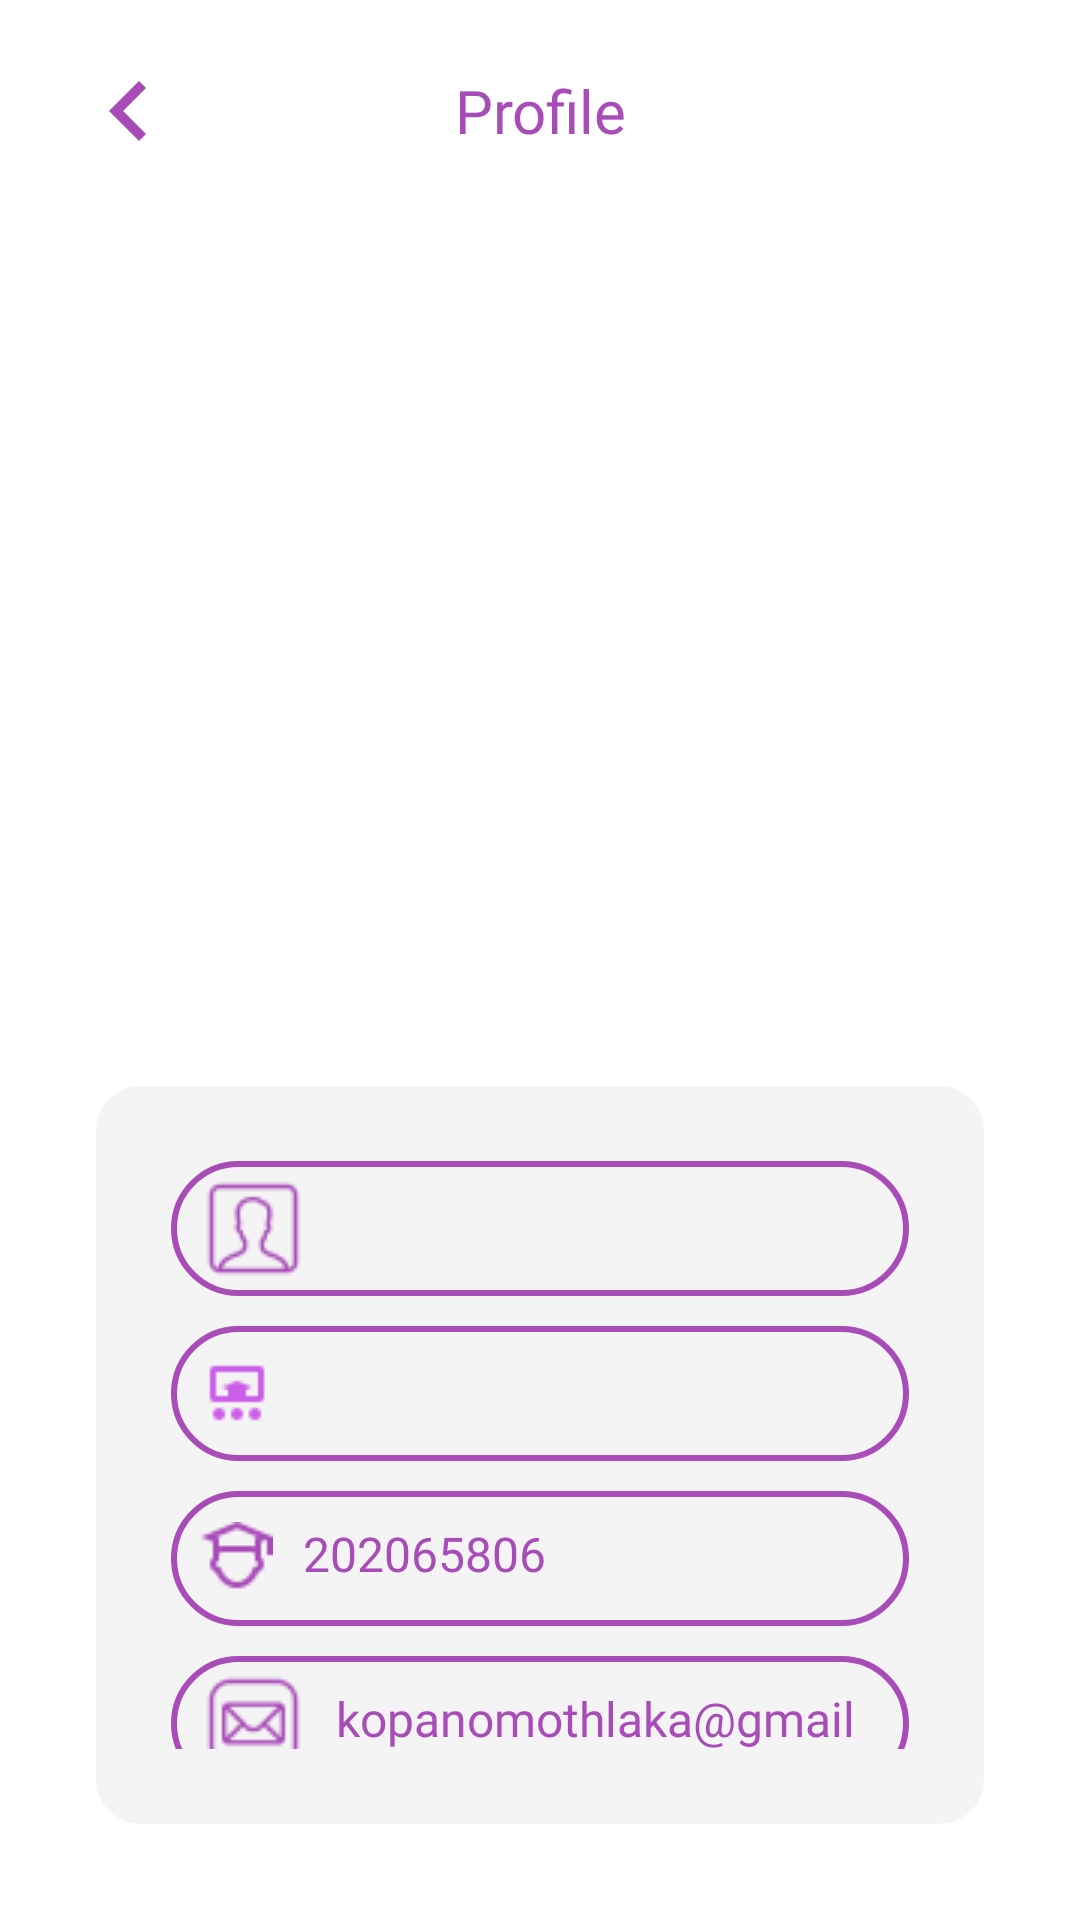

Icon bounding boxes for this 1080 x 1920 phone screenshot, format (left=x1, top=y1, right=x2, bottom=y2):
left arrow: (left=109, top=81, right=146, bottom=141)
